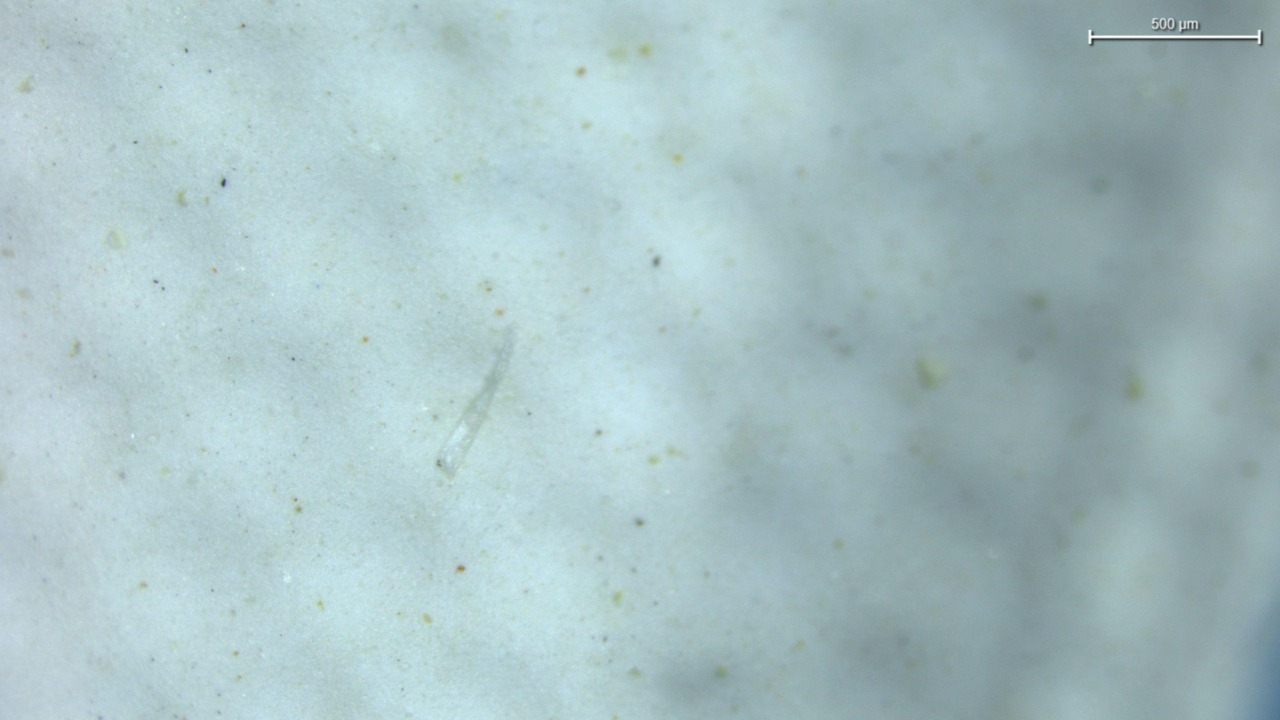microplastic_fragment: (437, 329, 514, 476)
